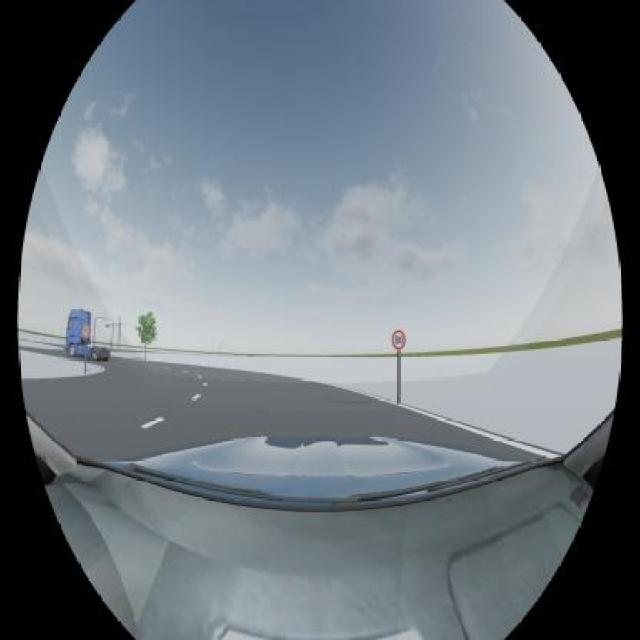forb_speed_over_80: (392, 330, 406, 350)
